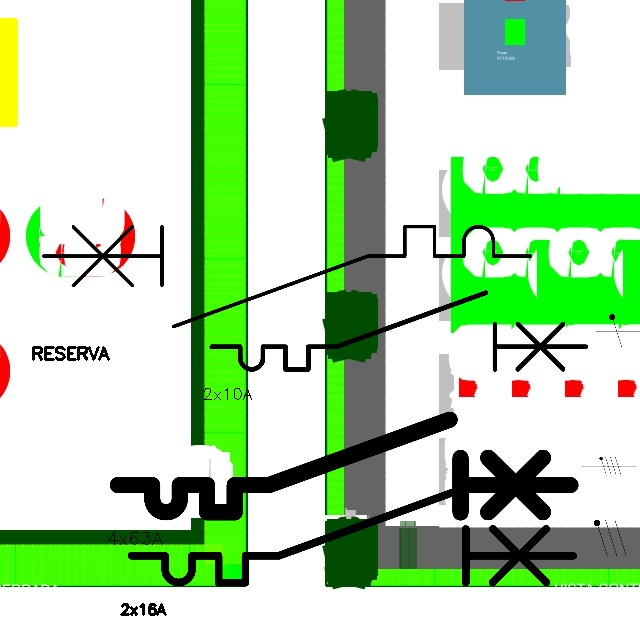interruptor_termomagnetico: (31, 214, 543, 339), (106, 408, 582, 524), (120, 480, 585, 594), (202, 283, 596, 379)
